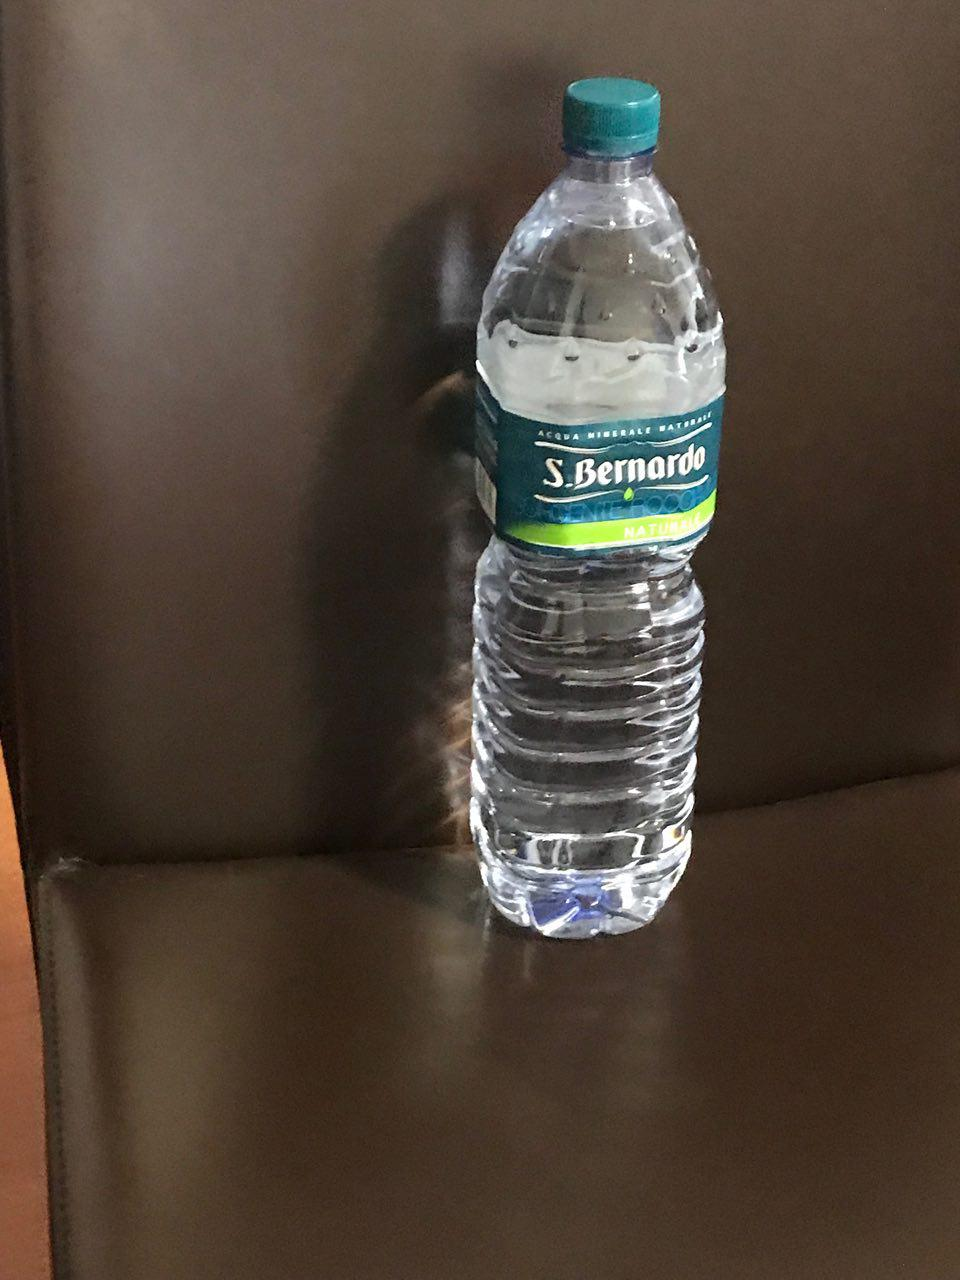san_bernardo: (470, 75, 728, 941)
